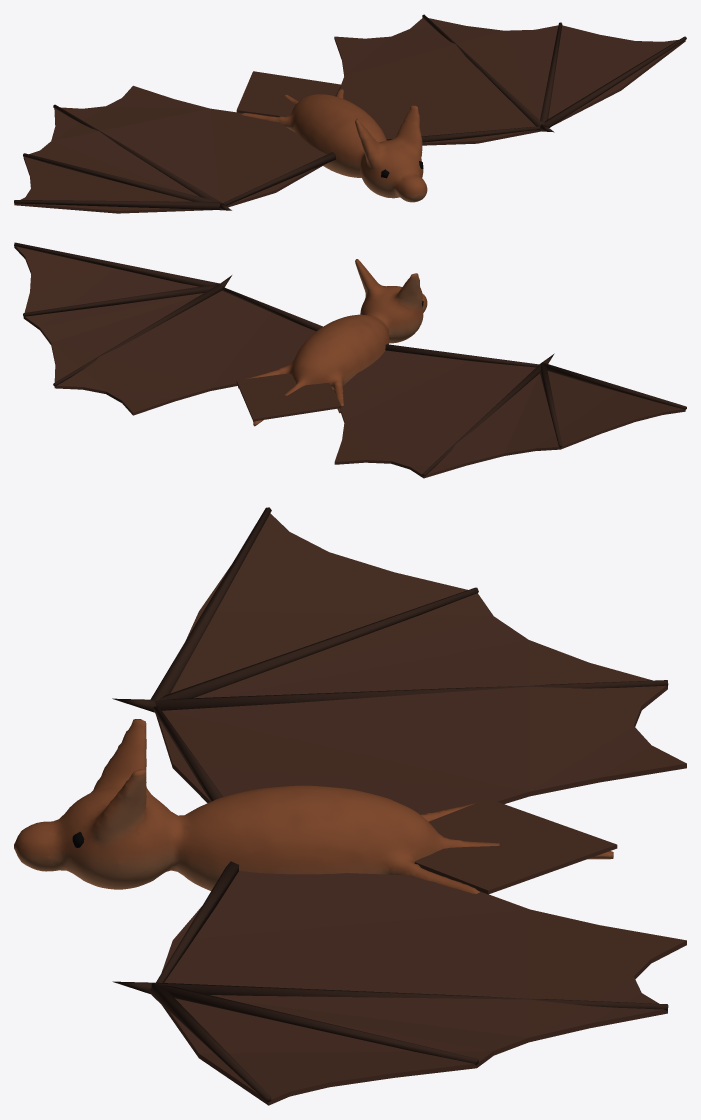
Rendered from PalaeochiropteryxTupaiodon.fbx.
3 renders of one model, top to bottom at view 1: azimuth 30°, elevation 25°; view 2: azimuth 150°, elevation 25°; view 3: azimuth 270°, elevation 25°, orthographic. The views are drawn at different scales.
Visible parts, largest first — view 1: PalaeochiropteryxTupaiodon; view 2: PalaeochiropteryxTupaiodon; view 3: PalaeochiropteryxTupaiodon.
Part boxes in pixels (box(x1,y1,x2,y2)): PalaeochiropteryxTupaiodon: box(14, 14, 686, 213); PalaeochiropteryxTupaiodon: box(14, 242, 686, 478); PalaeochiropteryxTupaiodon: box(14, 507, 686, 1105).
Bounding box in the file's own units: 1.6 × 0.1972 × 0.7721.
